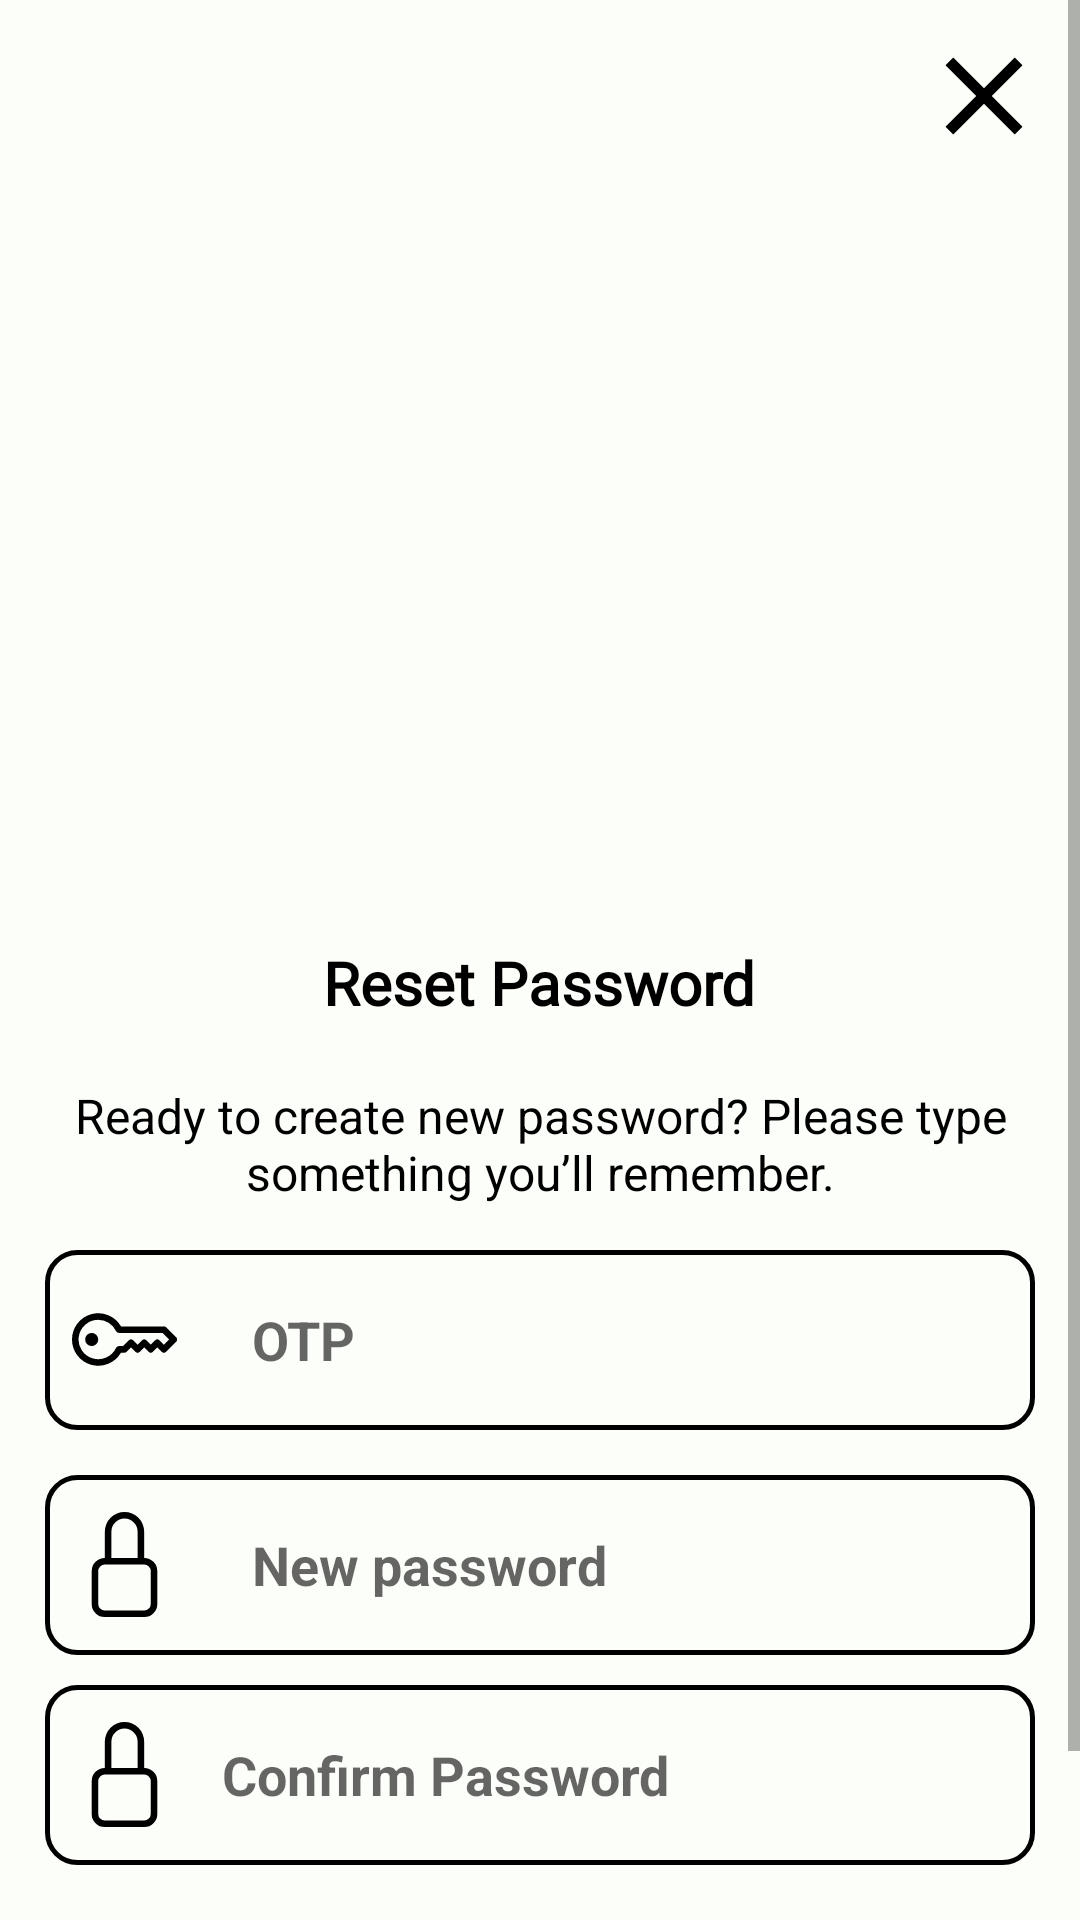

Icons on this 1080x1920 Android screen, each with the point to tap as (x=x, y=y):
close: (x=984, y=96)
lock: (x=124, y=1564), (x=124, y=1774)
